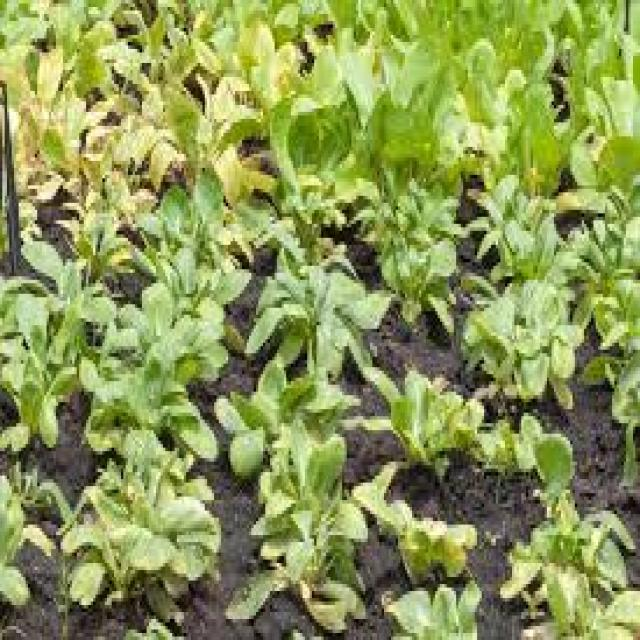Rust: (204, 117, 250, 213)
